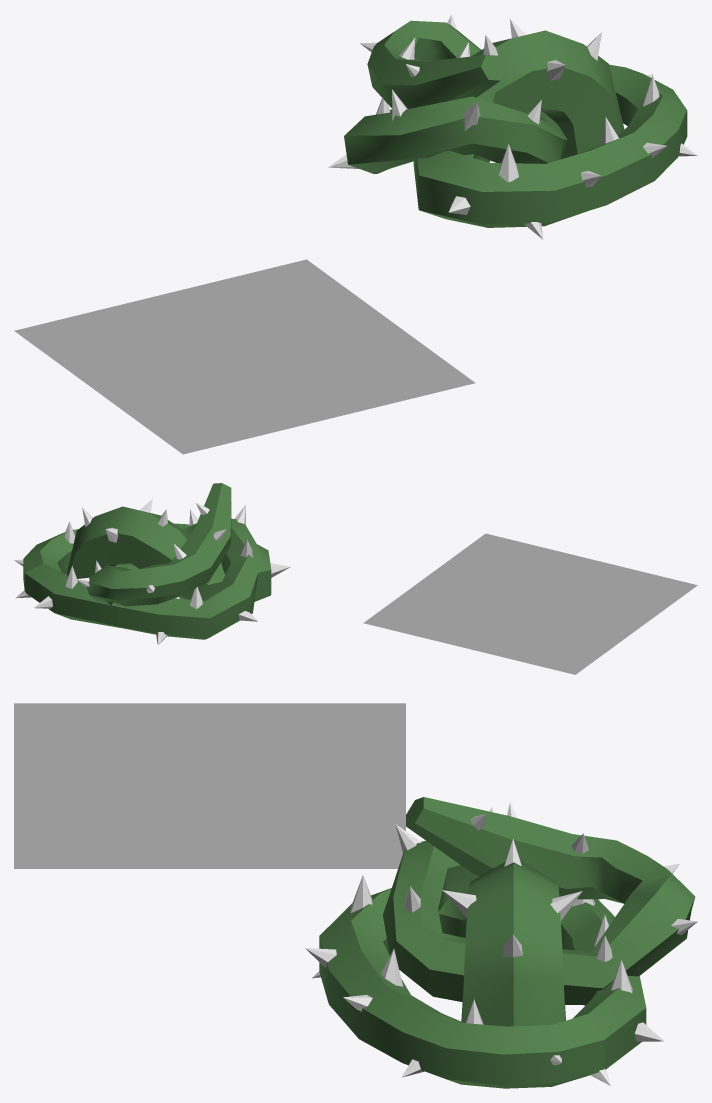
The model's file is Thorns.fbx.
3 renders of one model, top to bottom at view 1: azimuth 30°, elevation 25°; view 2: azimuth 150°, elevation 25°; view 3: azimuth 270°, elevation 25°, orthographic. The views are drawn at different scales.
Parts seen in each view (by area): view 1: pPlane8, sht; view 2: pPlane8, sht; view 3: sht, pPlane8.
Part boxes in pixels (x1,y1,x2,y2): pPlane8: (14,259,475,454); sht: (344,20,687,227); pPlane8: (363,533,697,674); sht: (23,483,271,639); sht: (319,797,695,1088); pPlane8: (14,703,405,868).
Size of the model in its own units: 15.35 by 3.26 by 11.09.
